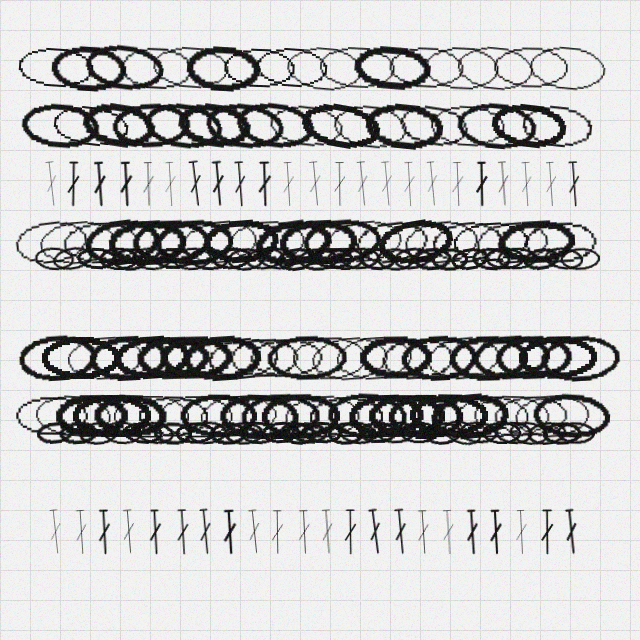chain: (297, 97, 383, 155), (374, 213, 458, 271), (141, 98, 226, 154), (233, 98, 318, 153), (78, 97, 160, 154), (251, 214, 334, 270), (82, 40, 166, 95), (393, 98, 475, 154), (10, 214, 93, 269), (81, 214, 164, 269), (48, 99, 132, 153), (203, 99, 287, 153), (350, 214, 432, 269), (265, 99, 348, 153), (329, 99, 412, 153), (174, 98, 255, 153), (455, 99, 539, 152), (488, 99, 570, 153), (453, 41, 536, 94), (362, 99, 445, 152), (323, 215, 406, 268), (400, 215, 483, 268), (308, 332, 392, 384), (526, 41, 608, 94), (178, 215, 260, 268), (428, 389, 510, 442), (19, 100, 102, 152), (517, 99, 598, 152), (427, 215, 508, 268), (203, 331, 284, 384), (422, 331, 503, 384), (283, 42, 365, 94), (36, 216, 118, 268), (301, 216, 384, 267), (351, 42, 432, 94), (472, 216, 553, 268), (14, 42, 96, 93), (149, 42, 231, 93), (17, 332, 99, 383), (539, 333, 622, 383), (201, 216, 282, 267), (64, 332, 145, 383), (112, 332, 193, 383), (181, 332, 262, 383), (333, 332, 414, 383), (511, 390, 592, 441), (449, 217, 531, 267), (197, 391, 279, 441), (252, 42, 332, 93), (471, 332, 551, 383), (326, 391, 409, 440), (106, 217, 187, 267), (32, 391, 113, 441), (87, 333, 169, 382), (49, 43, 129, 93), (427, 101, 507, 151), (154, 217, 234, 267), (496, 217, 576, 267), (377, 333, 457, 383), (531, 391, 611, 441), (316, 43, 397, 92), (386, 43, 467, 92), (111, 101, 192, 150), (227, 217, 308, 266), (277, 217, 358, 266), (184, 43, 263, 93), (117, 43, 197, 92), (421, 43, 501, 92), (494, 333, 574, 382), (60, 218, 141, 266), (131, 218, 212, 266), (266, 334, 347, 382), (218, 392, 299, 440), (282, 392, 363, 440), (520, 217, 599, 266), (399, 333, 478, 382), (240, 392, 320, 440), (471, 392, 551, 440), (491, 392, 571, 440), (220, 44, 299, 92), (246, 334, 325, 382), (347, 392, 426, 440), (491, 44, 571, 91), (448, 334, 528, 381), (517, 334, 597, 381), (260, 392, 340, 439), (408, 392, 488, 439), (111, 393, 192, 439), (135, 334, 212, 382), (226, 334, 303, 382), (92, 392, 169, 440), (40, 335, 120, 381), (71, 393, 151, 439), (290, 334, 368, 381), (306, 393, 385, 439), (158, 334, 235, 381), (135, 392, 212, 439), (12, 393, 90, 439), (156, 393, 234, 439), (179, 393, 257, 439), (367, 393, 445, 439), (387, 393, 465, 439), (358, 334, 434, 381), (453, 393, 530, 439), (54, 393, 130, 439), (440, 416, 484, 449), (51, 244, 94, 273), (133, 419, 176, 447), (275, 245, 317, 273), (449, 245, 491, 273), (521, 245, 562, 273), (508, 419, 549, 447), (211, 245, 253, 272), (244, 245, 286, 272), (256, 245, 297, 272), (392, 245, 433, 272), (543, 245, 584, 272), (337, 419, 378, 446), (526, 420, 568, 446), (122, 420, 163, 446), (35, 420, 75, 446), (78, 420, 118, 446), (278, 420, 318, 446), (423, 420, 463, 446), (34, 246, 75, 271), (76, 246, 117, 271), (172, 246, 213, 271), (188, 246, 229, 271), (340, 246, 381, 271), (301, 420, 342, 445), (376, 420, 417, 445), (458, 420, 499, 445), (226, 246, 265, 272), (131, 246, 171, 271), (412, 246, 452, 271), (471, 246, 511, 271), (58, 420, 98, 445), (102, 420, 142, 445), (187, 420, 227, 445), (238, 420, 278, 445), (261, 420, 301, 445), (358, 246, 397, 271), (494, 420, 533, 445), (298, 247, 338, 271), (560, 247, 600, 271), (175, 421, 215, 445), (208, 421, 248, 445), (224, 421, 264, 445), (111, 247, 150, 271), (376, 247, 415, 271), (153, 421, 192, 445), (290, 421, 329, 445), (542, 421, 581, 445), (556, 421, 595, 445), (99, 247, 139, 270), (485, 247, 525, 270), (497, 247, 537, 270), (399, 421, 439, 444), (431, 247, 469, 271), (327, 421, 365, 445), (153, 247, 192, 270), (314, 247, 353, 270), (326, 247, 365, 270), (358, 421, 397, 444), (482, 421, 521, 444)
double: (185, 160, 206, 207), (305, 160, 325, 207), (365, 508, 385, 555), (42, 160, 61, 207), (353, 160, 372, 207), (423, 160, 442, 207), (494, 160, 513, 207), (46, 508, 65, 555), (119, 508, 138, 555), (196, 508, 215, 555), (245, 508, 264, 555), (318, 508, 337, 555), (391, 508, 410, 555), (562, 508, 581, 555), (439, 509, 458, 555), (209, 160, 227, 207), (378, 160, 396, 207), (91, 161, 109, 207), (117, 161, 135, 207), (231, 161, 249, 207), (542, 161, 560, 207), (565, 161, 583, 207), (174, 509, 192, 555), (221, 509, 239, 555), (295, 509, 313, 555), (487, 509, 505, 555), (140, 161, 157, 207), (162, 161, 179, 207), (256, 161, 273, 207), (280, 161, 297, 207), (401, 161, 418, 207), (449, 161, 466, 207), (518, 161, 535, 207), (73, 509, 90, 555), (96, 509, 113, 555), (147, 509, 164, 555), (415, 509, 432, 555), (464, 509, 481, 555), (513, 509, 530, 555), (539, 509, 555, 555), (66, 161, 81, 207), (332, 161, 347, 207), (474, 161, 489, 207), (270, 509, 285, 555), (343, 509, 358, 555)
